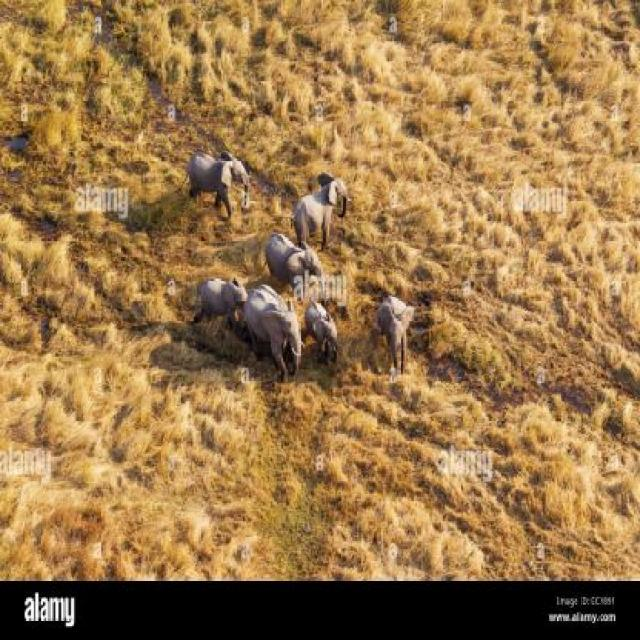elephant: (241, 262, 302, 383), (188, 135, 261, 202), (298, 164, 359, 236), (281, 293, 341, 356), (272, 212, 316, 292), (194, 264, 248, 322), (382, 289, 412, 369)
